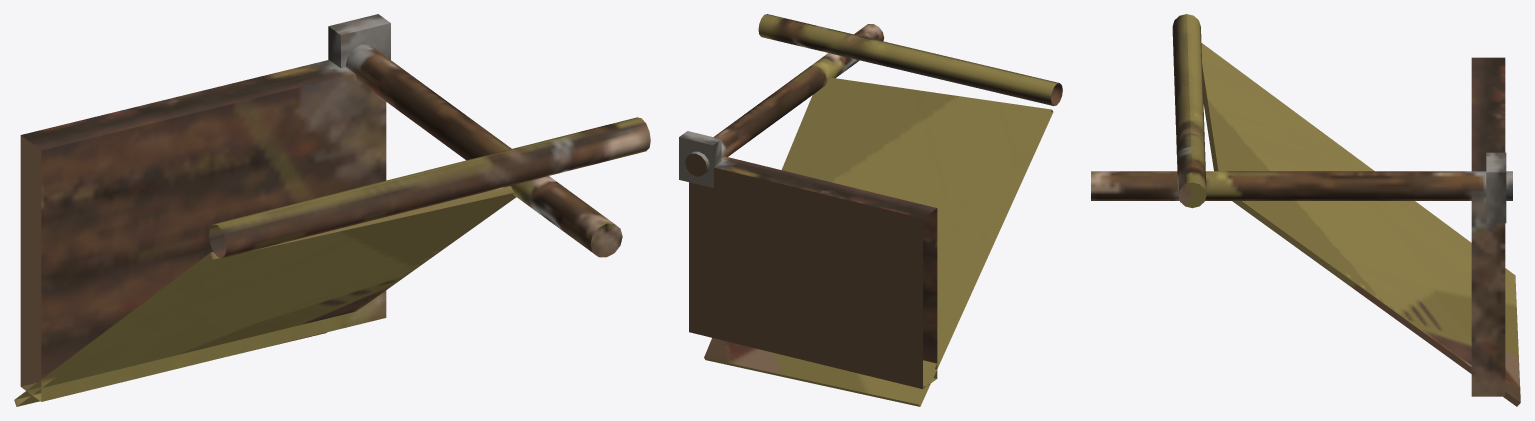
File: section-7.obj
The picture shows the model from 3 angles, left to right: view 1: azimuth 30°, elevation 25°; view 2: azimuth 150°, elevation 25°; view 3: azimuth 270°, elevation 25°; orthographic projection. The views are drawn at different scales.
Size of the model in its own units: 1.32 by 0.9852 by 1.42.
1 material, 1 textured.
